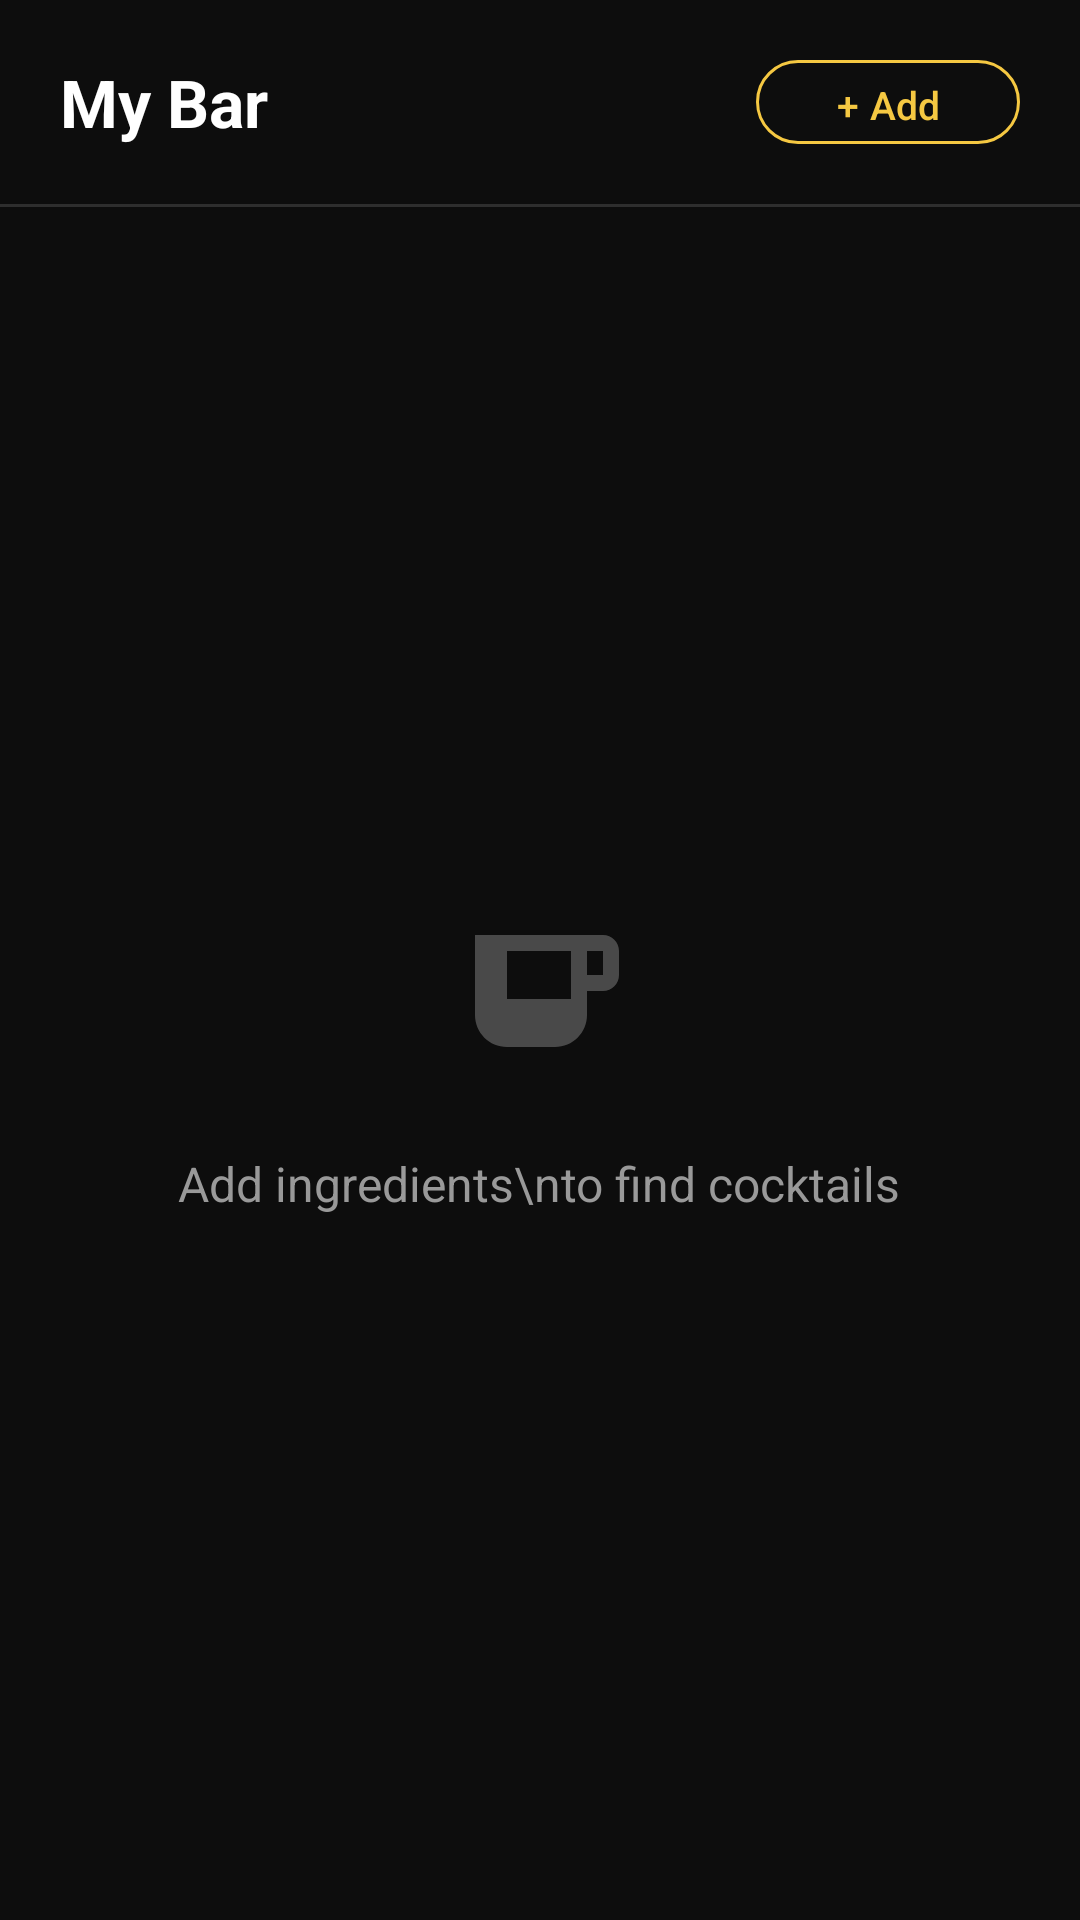

Named icons in this screenshot (1080px×1920px) and their centers, [x,y]:
bar: [547,991]
